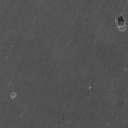corrosion: (113, 13, 128, 32), (9, 91, 18, 100), (88, 86, 92, 91)
